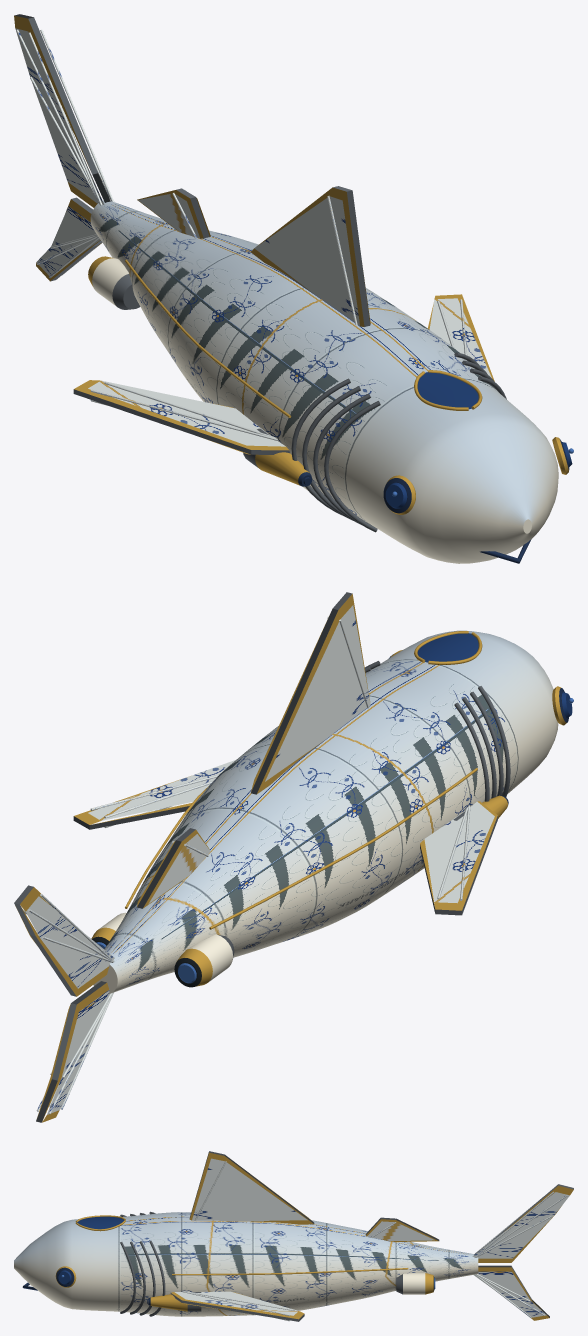
The picture shows the model from 3 angles, top to bottom: view 1: azimuth 30°, elevation 25°; view 2: azimuth 150°, elevation 25°; view 3: azimuth 270°, elevation 25°; orthographic projection. The views are drawn at different scales.
Parts seen in each view (by area): view 1: tiger_shark_hull; view 2: tiger_shark_hull; view 3: tiger_shark_hull.
Part boxes in pixels (x1,y1,x2,y2): tiger_shark_hull: (14,14,573,563); tiger_shark_hull: (14,592,573,1122); tiger_shark_hull: (14,1151,573,1321).
Size of the model in its own units: 35.12 by 26.52 by 80.
Materials: 1 (1 with a texture image).
